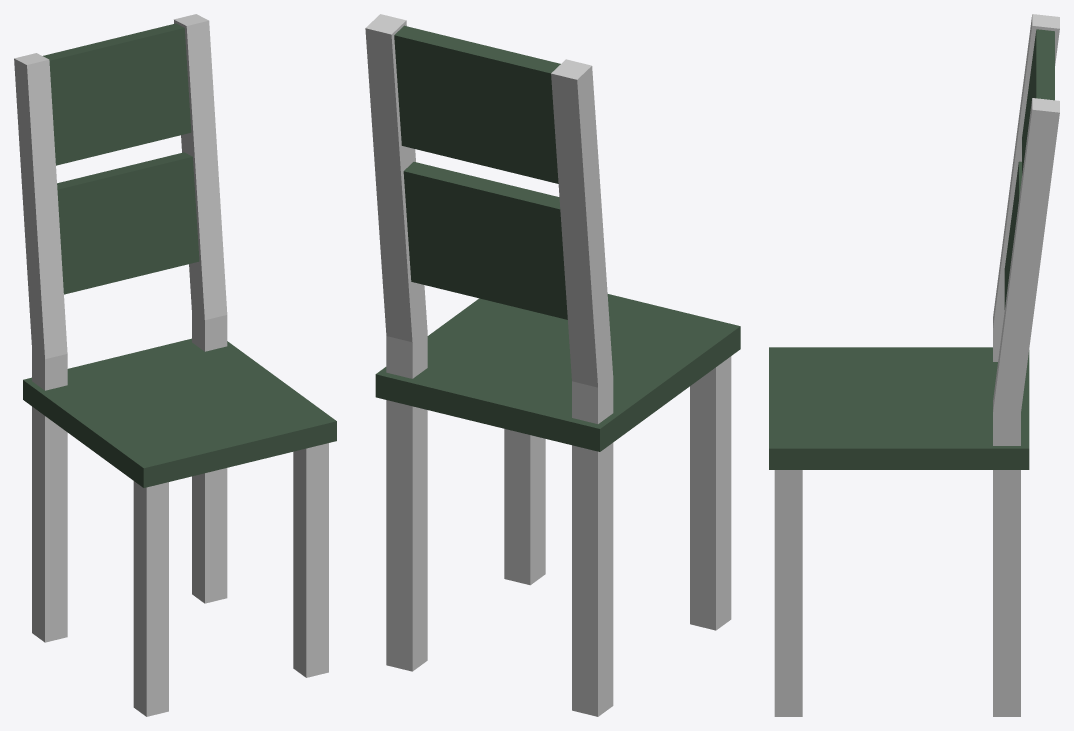
File: Chair.glb
The picture shows the model from 3 angles, left to right: view 1: azimuth 30°, elevation 25°; view 2: azimuth 150°, elevation 25°; view 3: azimuth 270°, elevation 25°; orthographic projection. The views are drawn at different scales.
Parts seen in each view (by area): view 1: Cube_017; view 2: Cube_017; view 3: Cube_017.
Part boxes in pixels (x1=…): Cube_017: x1=14, y1=14, x2=336, y2=716; Cube_017: x1=365, y1=14, x2=740, y2=716; Cube_017: x1=769, y1=14, x2=1059, y2=716.
Size of the model in its own units: 0.4989 by 1.39 by 0.6048.
1 material, 1 textured.
